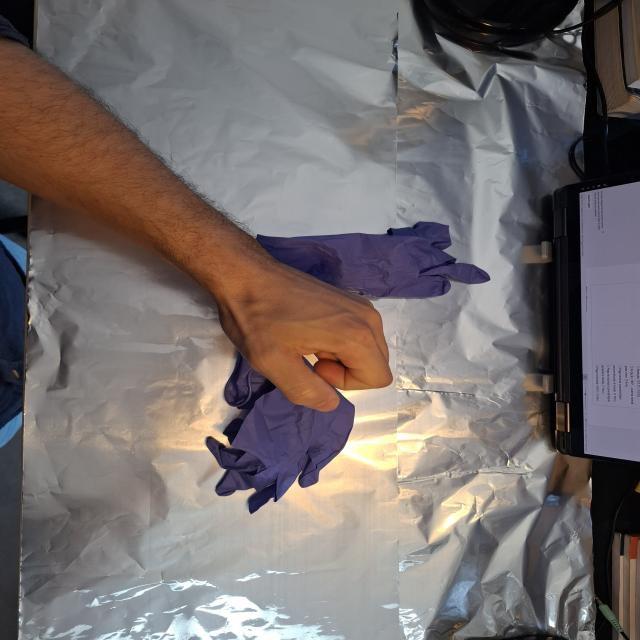glove_off: (214, 254, 398, 414)
